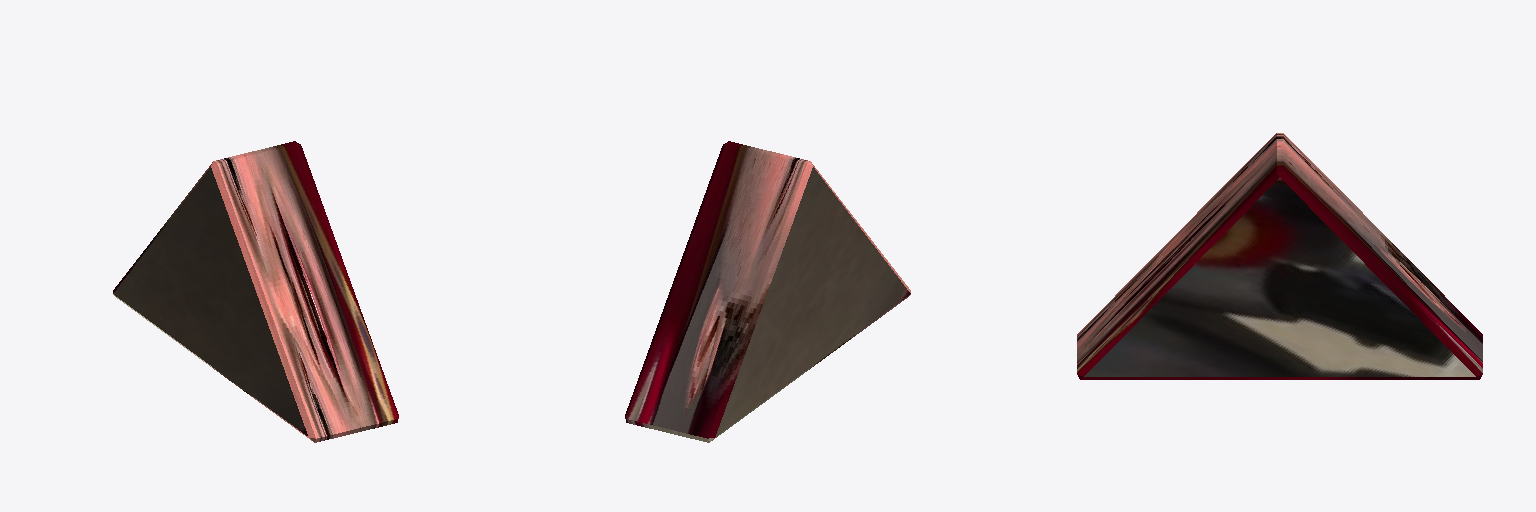
3 views of the same model, side by side, from view 1: azimuth 30°, elevation 25°; view 2: azimuth 150°, elevation 25°; view 3: azimuth 270°, elevation 25° (orthographic).
Visible parts, largest first — view 1: pPrism1; view 2: pPrism1; view 3: pPrism1.
Part boxes in pixels (left/top/right/bottom): pPrism1: left=113, top=141, right=398, bottom=442; pPrism1: left=625, top=141, right=910, bottom=442; pPrism1: left=1077, top=133, right=1482, bottom=379.
Size of the model in its own units: 10.1 by 22.18 by 39.33.
1 materials, 1 textured.